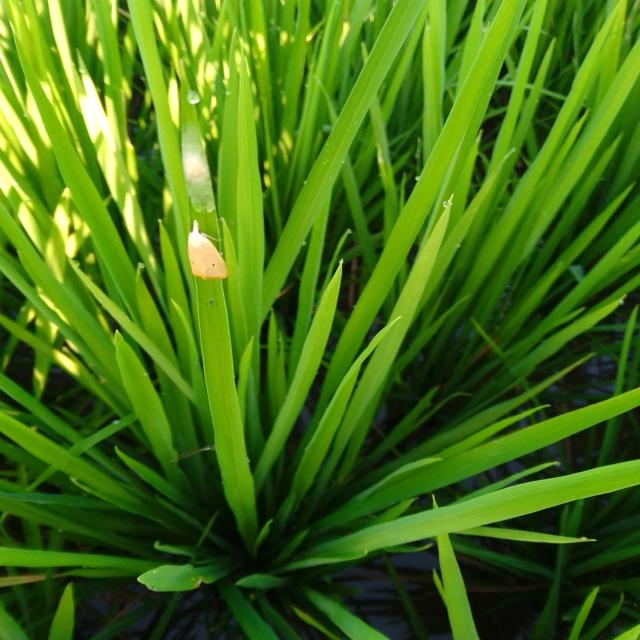Narrow brown: (174, 203, 253, 296)
